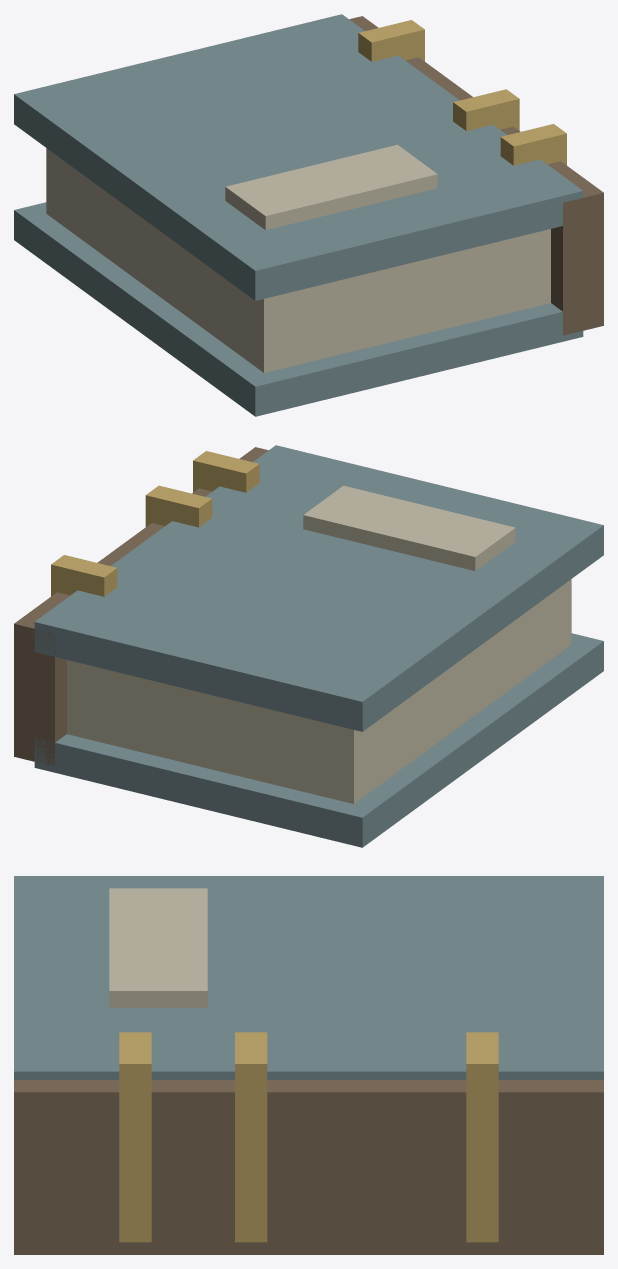
The model's file is spread-portable-codex13.fbx.
The picture shows the model from 3 angles, top to bottom: view 1: azimuth 30°, elevation 25°; view 2: azimuth 150°, elevation 25°; view 3: azimuth 270°, elevation 25°; orthographic projection. The views are drawn at different scales.
Parts seen in each view (by area): view 1: spread-portable-codex13__Geometry; view 2: spread-portable-codex13__Geometry; view 3: spread-portable-codex13__Geometry.
Boxes of the visible parts, left/top/right/bottom form: spread-portable-codex13__Geometry: left=14, top=14, right=603, bottom=416; spread-portable-codex13__Geometry: left=14, top=445, right=603, bottom=847; spread-portable-codex13__Geometry: left=14, top=876, right=603, bottom=1254.
Bounding box in the file's own units: 0.4325 × 0.1925 × 0.51.
